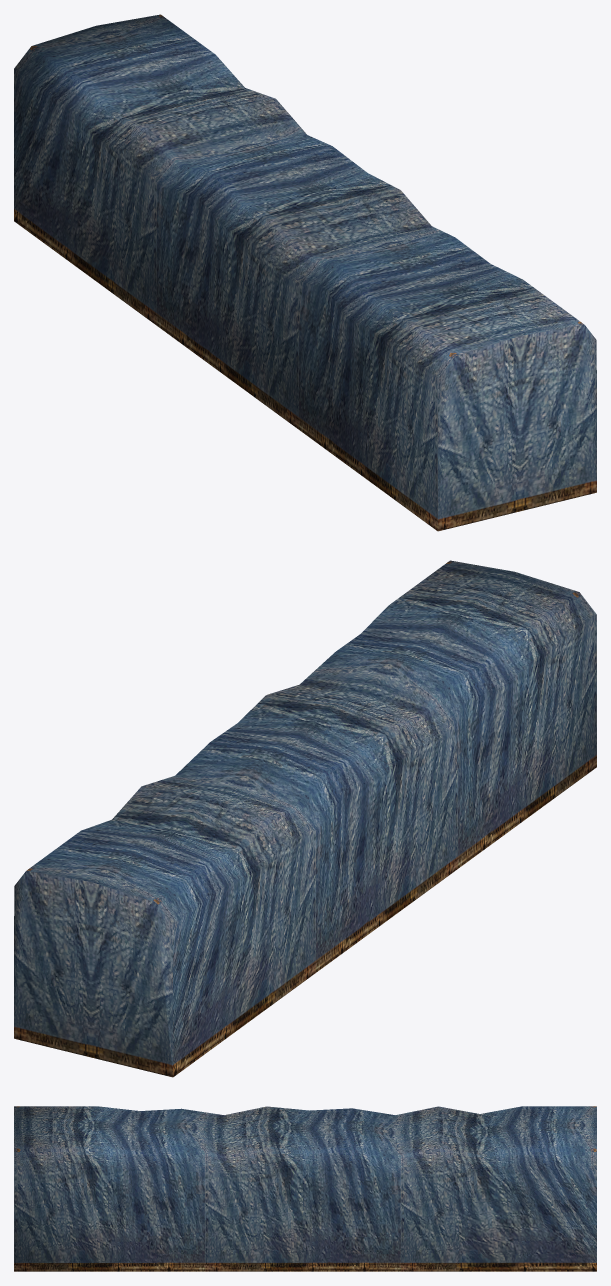
File: Model_Trains_Cargo_Large.fbx
3 renders of one model, top to bottom at view 1: azimuth 30°, elevation 25°; view 2: azimuth 150°, elevation 25°; view 3: azimuth 270°, elevation 25°, orthographic. The views are drawn at different scales.
Visible parts, largest first — view 1: Train_Transport_Case_Sail_LOD0; view 2: Train_Transport_Case_Sail_LOD0; view 3: Train_Transport_Case_Sail_LOD0.
Part boxes in pixels (x1,y1,x2,y2): Train_Transport_Case_Sail_LOD0: [14, 14, 596, 531]; Train_Transport_Case_Sail_LOD0: [14, 560, 596, 1077]; Train_Transport_Case_Sail_LOD0: [14, 1106, 596, 1271].
Size of what is drawn, in the model's own units: 247 by 260 by 1140.
